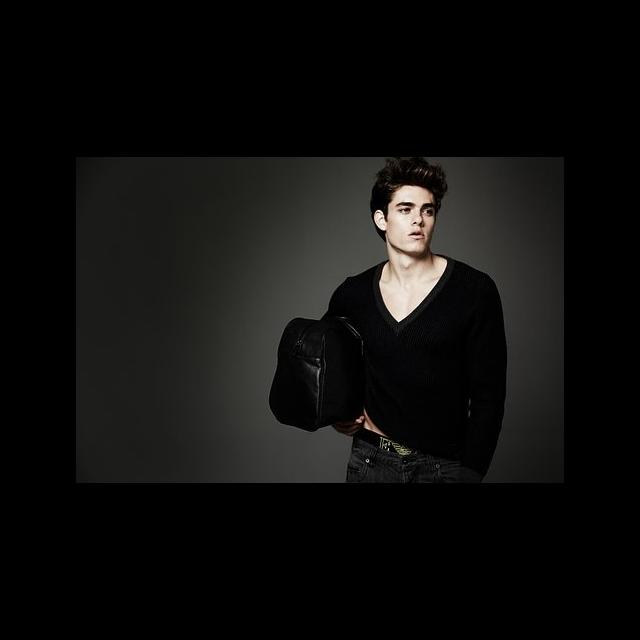male: (347, 168, 470, 267)
